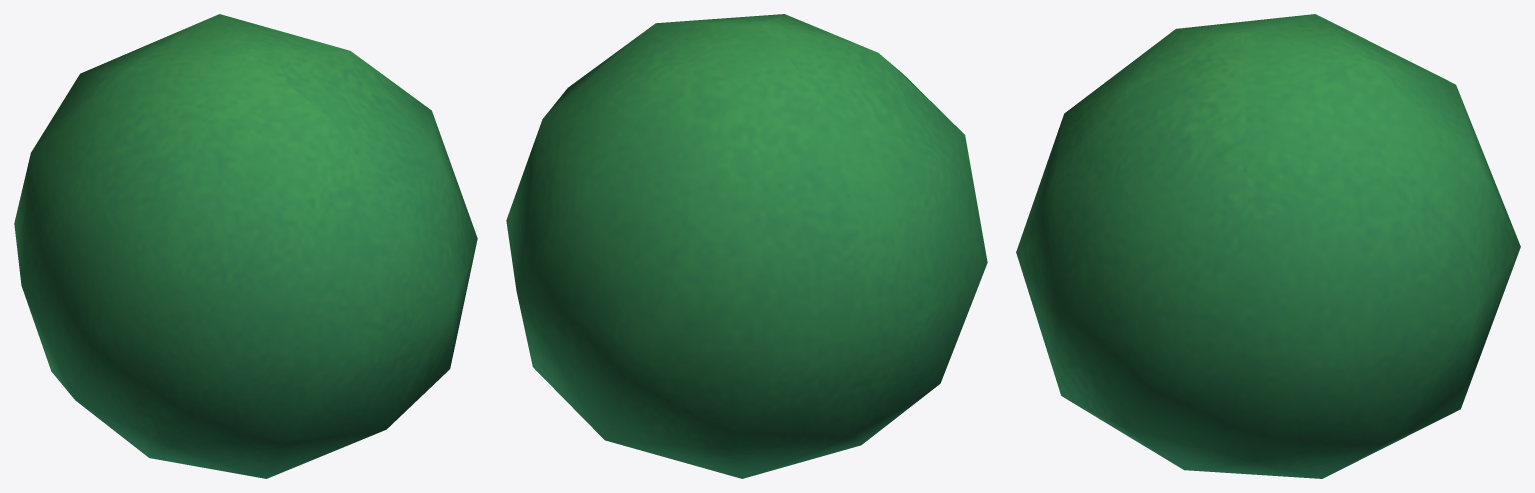
The model's file is Bush_5.glb.
The picture shows the model from 3 angles, left to right: view 1: azimuth 30°, elevation 25°; view 2: azimuth 150°, elevation 25°; view 3: azimuth 270°, elevation 25°; orthographic projection. The views are drawn at different scales.
Visible parts, largest first — view 1: Icosphere.037; view 2: Icosphere.037; view 3: Icosphere.037.
Boxes of the visible parts, x1,y1,x2,y2 form: Icosphere.037: [14, 14, 477, 478]; Icosphere.037: [506, 14, 987, 478]; Icosphere.037: [1016, 14, 1520, 478].
Size of the model in its own units: 1.14 by 1.11 by 1.21.
1 material, 1 textured.
